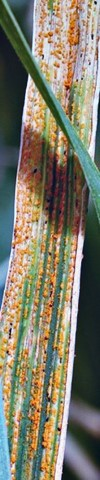Leaf Rust: (2, 28, 99, 455)
